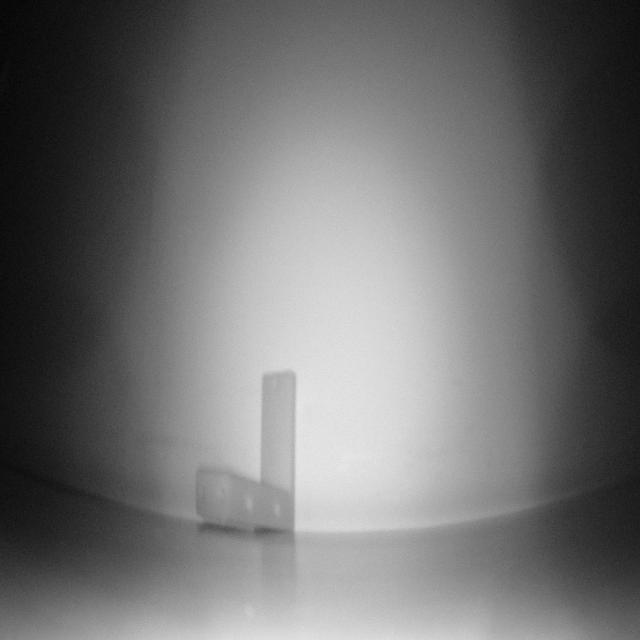targets: (198, 360, 304, 530)
